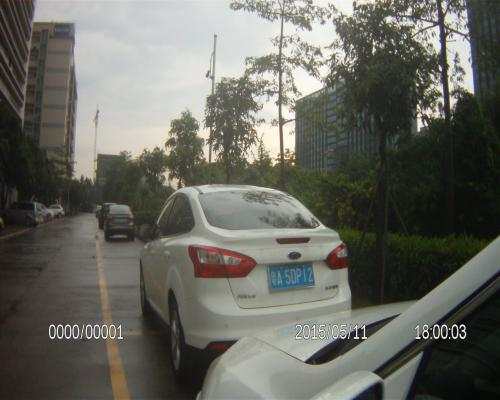Carplate: (264, 258, 318, 292)
